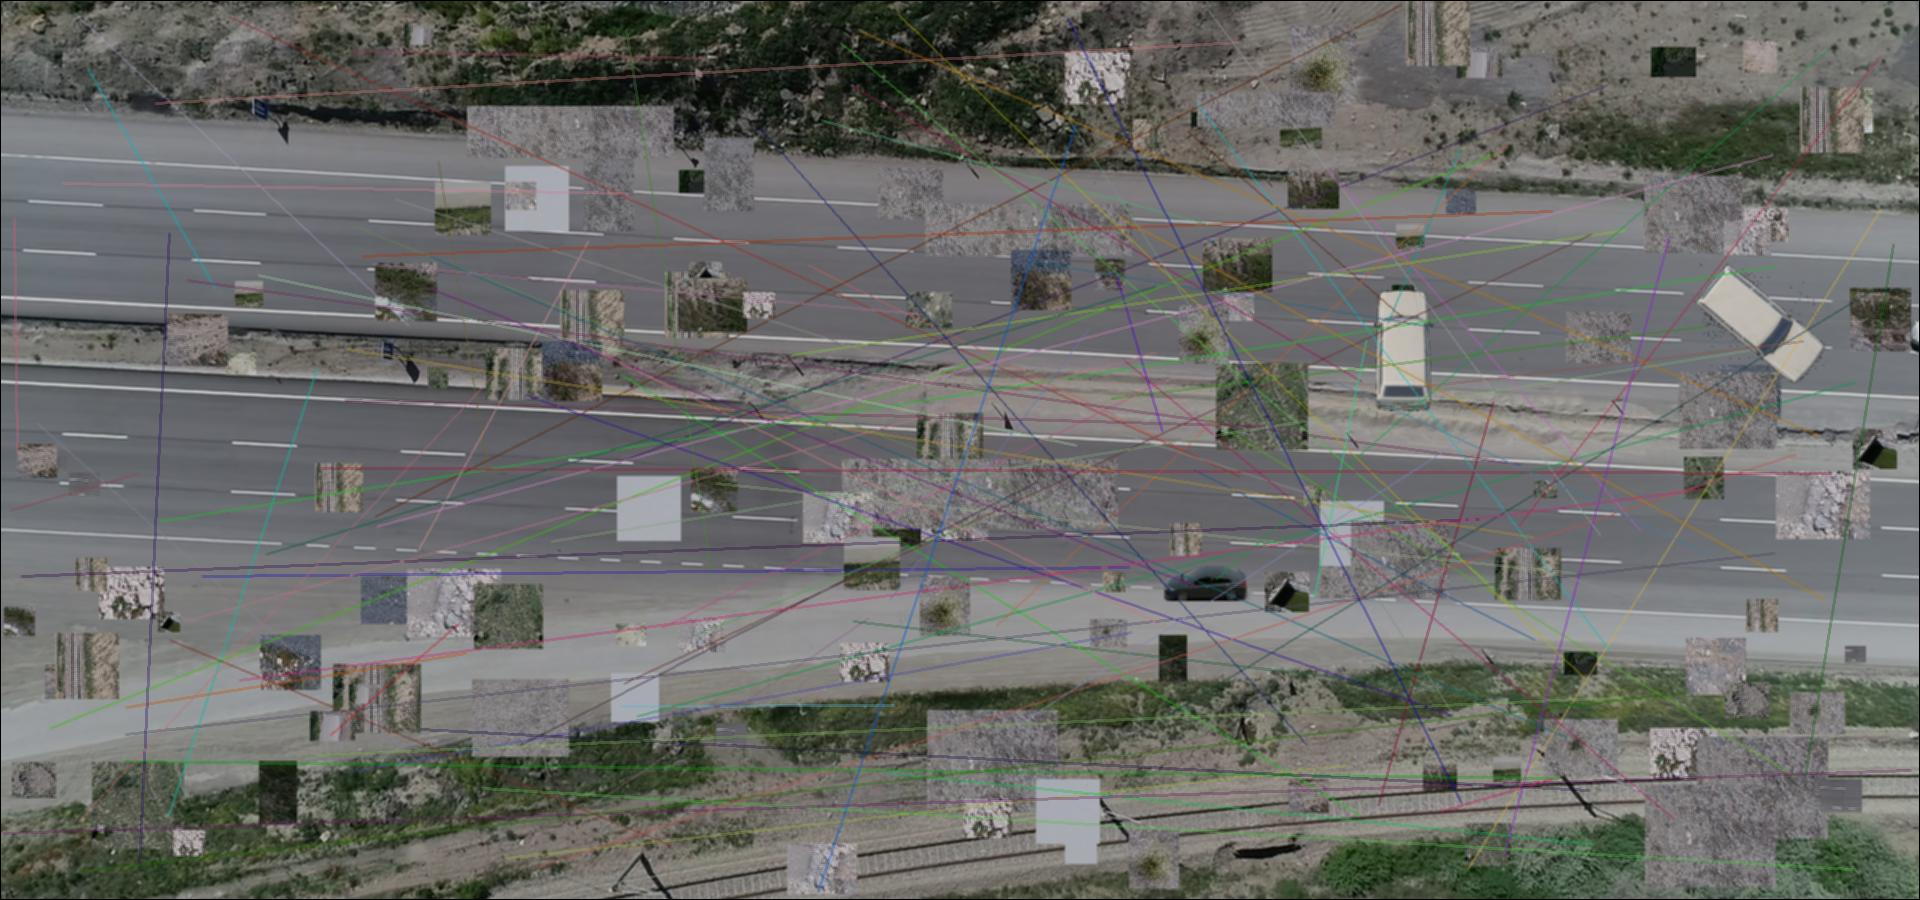arac: (1693, 262, 1824, 384), (1373, 288, 1435, 411), (1164, 564, 1249, 601)
